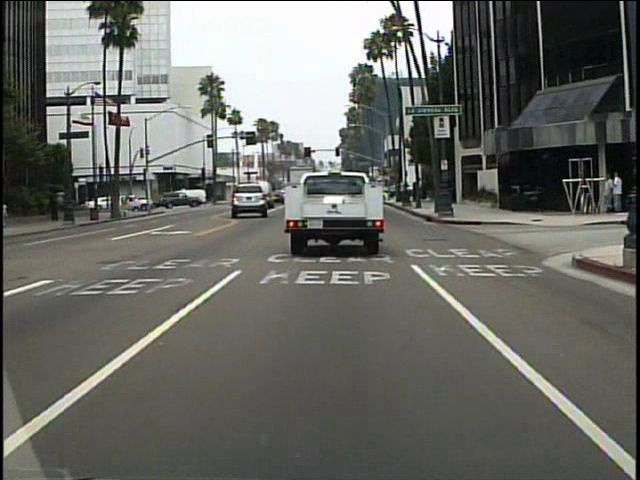person: (611, 168, 623, 216), (601, 170, 614, 212), (133, 192, 143, 213)
